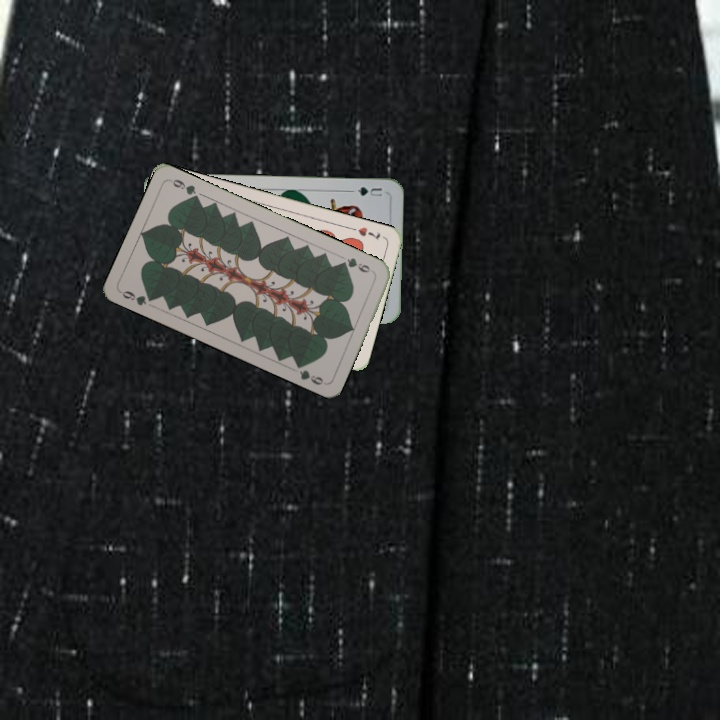G9: (336, 254, 377, 276), (117, 286, 158, 308)
GU: (353, 183, 385, 199)
H7: (347, 223, 383, 243)
